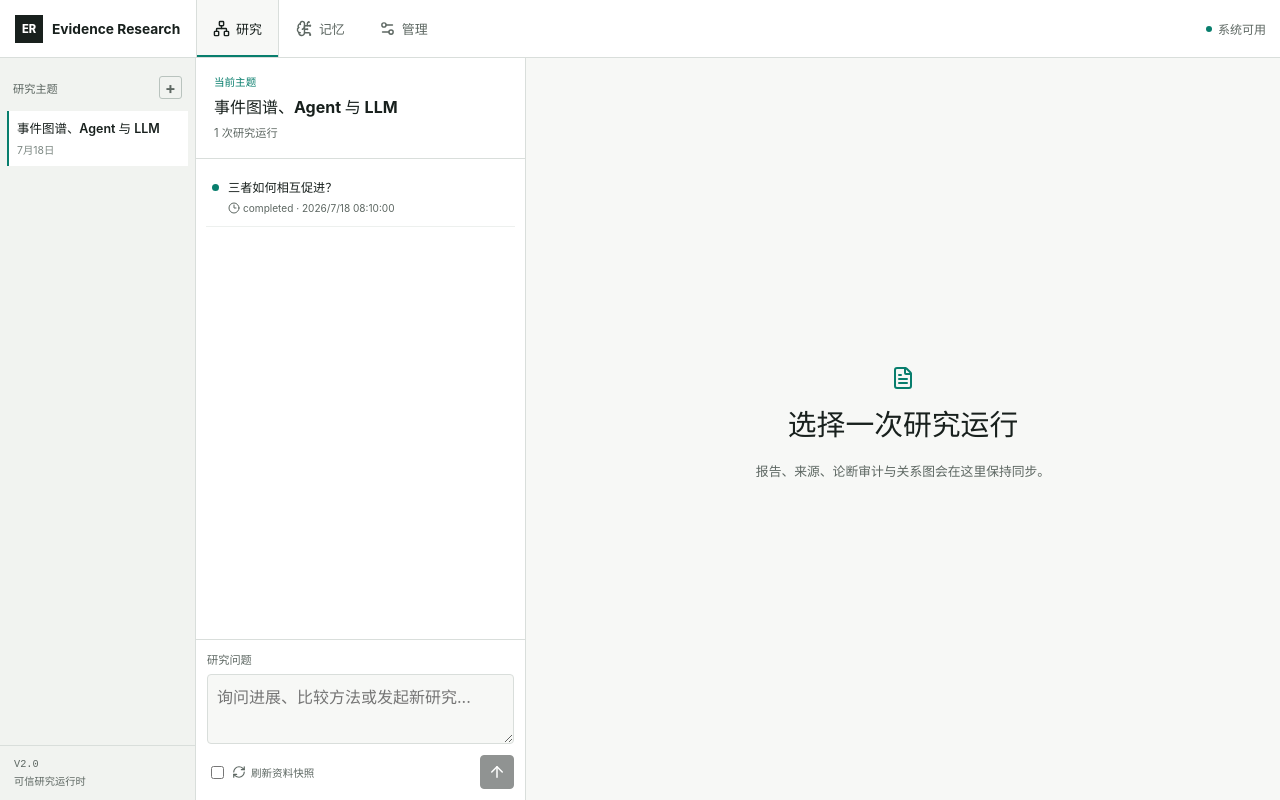
Test: research workspace › submits a simple prompt and opens an editable clarification brief
This screenshot has width=1280, height=800.
Type "研究三者关系" into the text box labelled "研究问题".
click(360, 709); type("研究三者关系")  # box top-left (207, 674), bottom-right (514, 744)
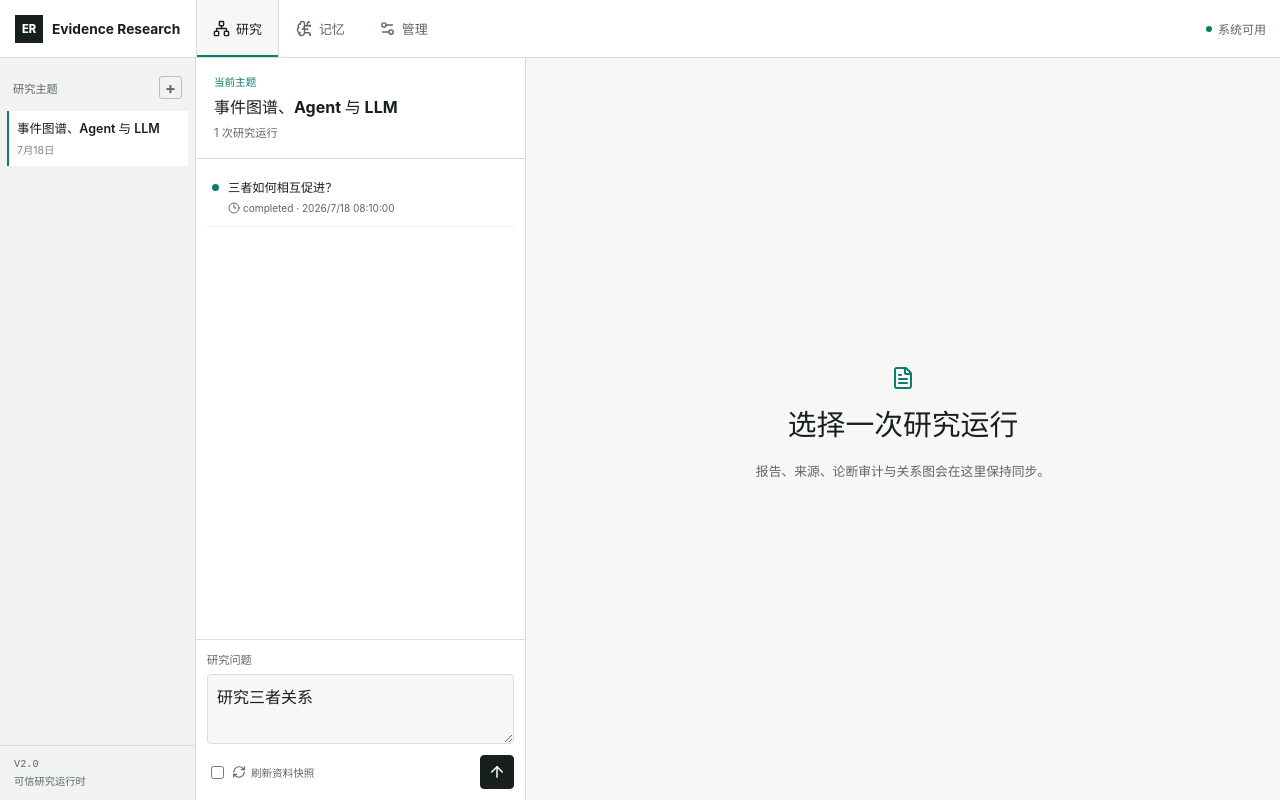
Click the button named "发送".
click(497, 772)  # box top-left (480, 755), bottom-right (514, 789)
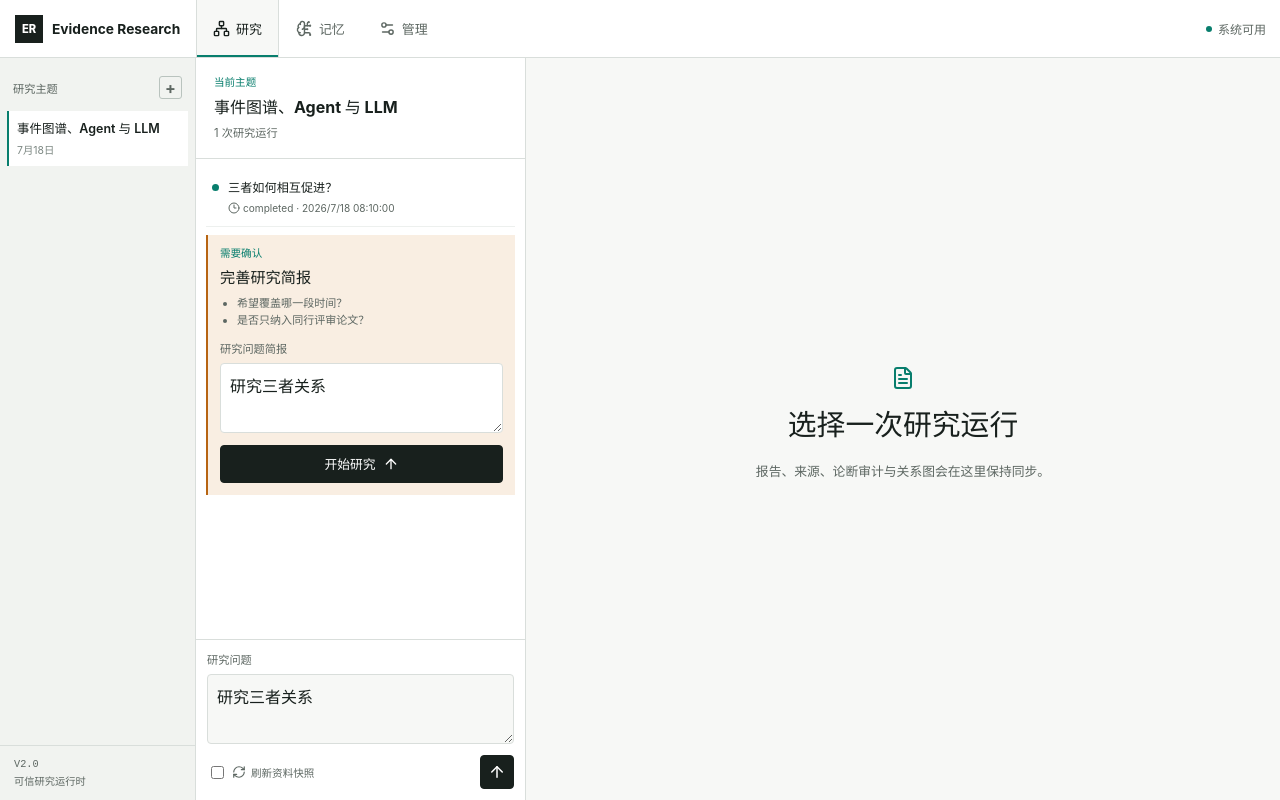
Expected: the heading "完善研究简报" is shown, top-left (220, 268), bottom-right (311, 287)
Expected: the text box labelled "研究问题简报" holds "研究三者关系"
Replace the text in the text box labelled "研究问题简报" with "完整分析 2024 至 2026 年的三者关系" at (362, 398), box top-left (220, 363), bottom-right (503, 433)
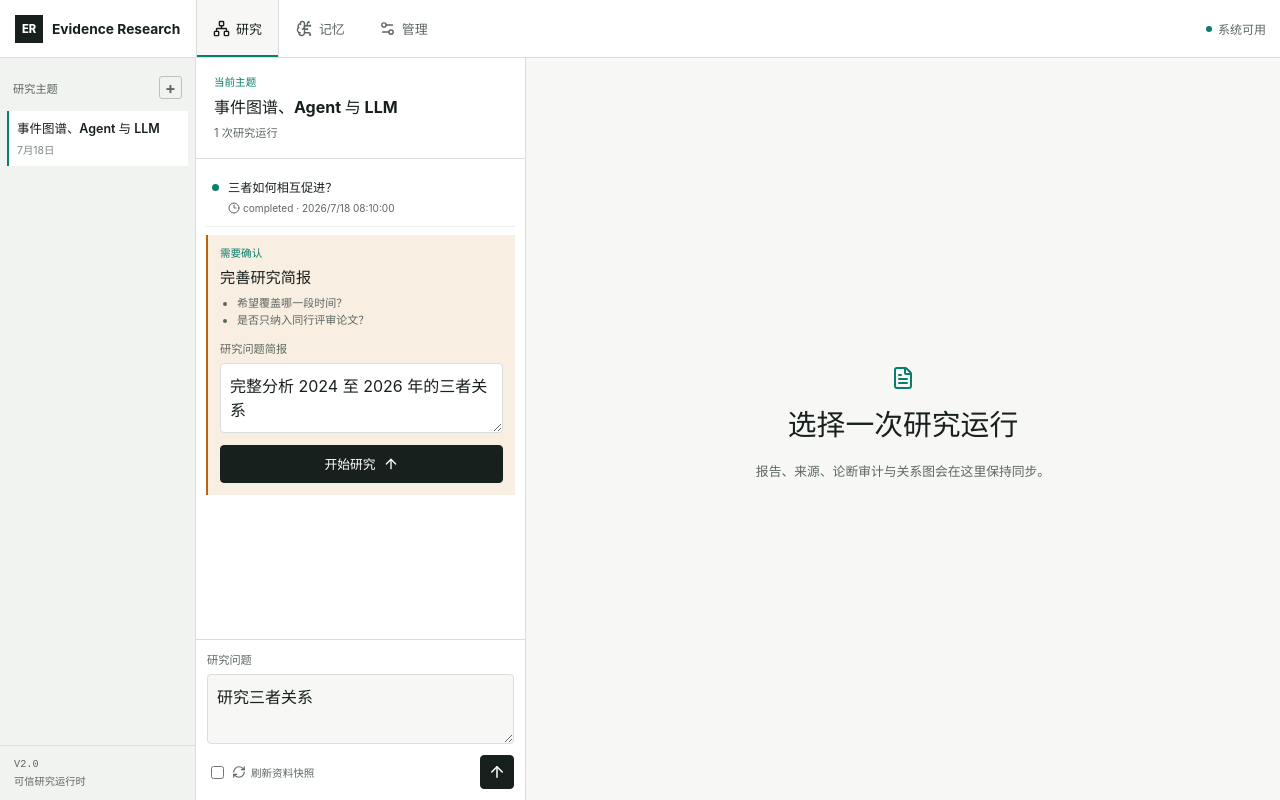
Click the button "开始研究".
click(362, 464)  # box top-left (220, 445), bottom-right (503, 483)
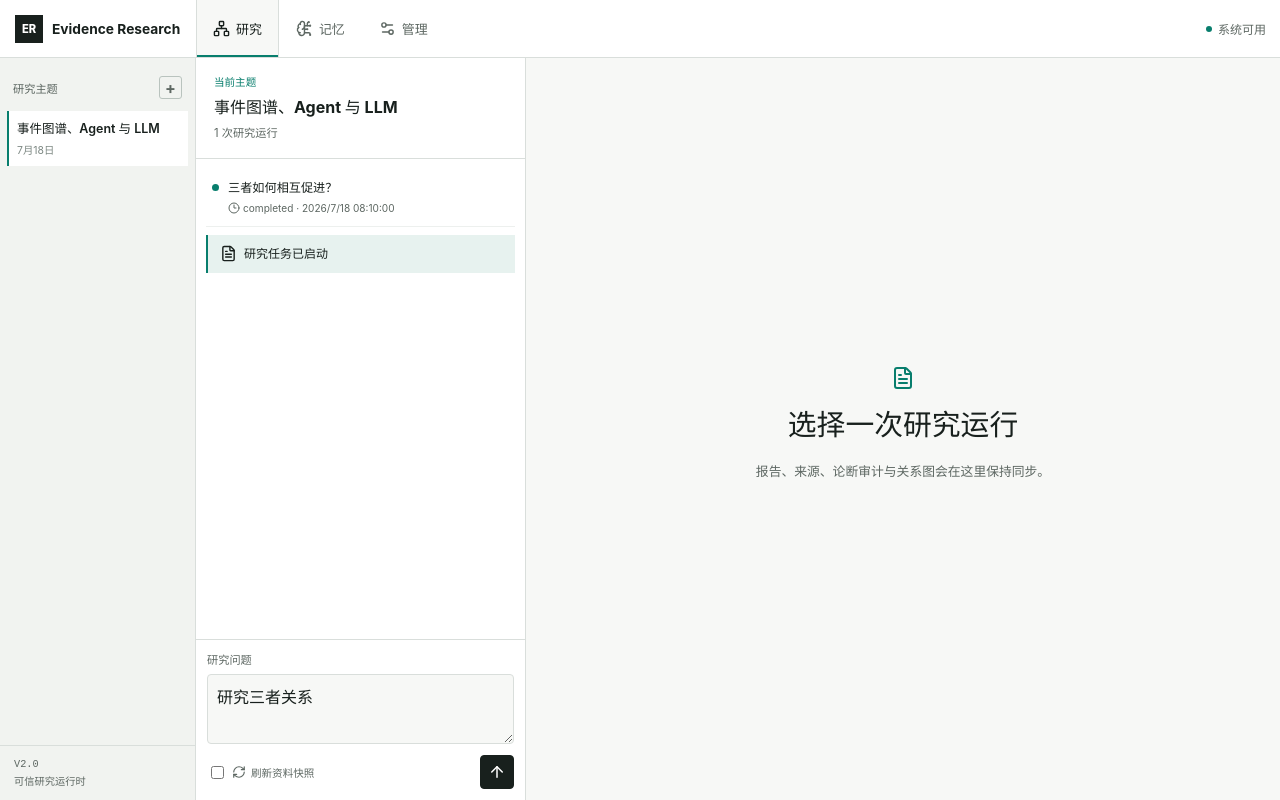
Expected: the text "研究任务已启动" is shown, top-left (206, 235), bottom-right (515, 273)
